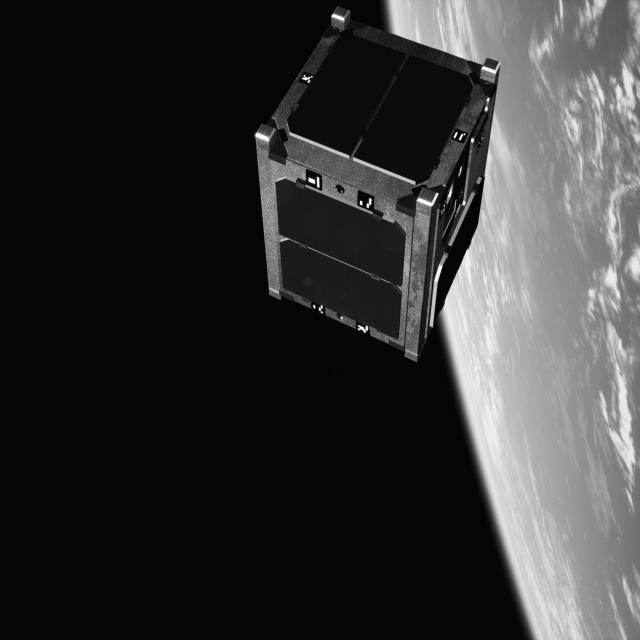medium_debris: (248, 1, 501, 368)
